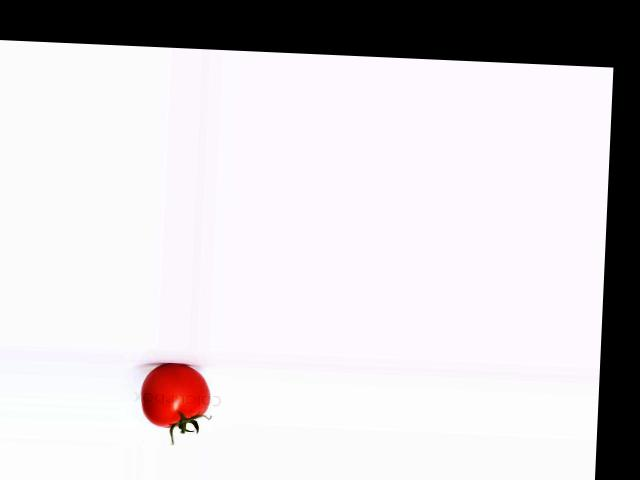tomato: (139, 362, 210, 429)
